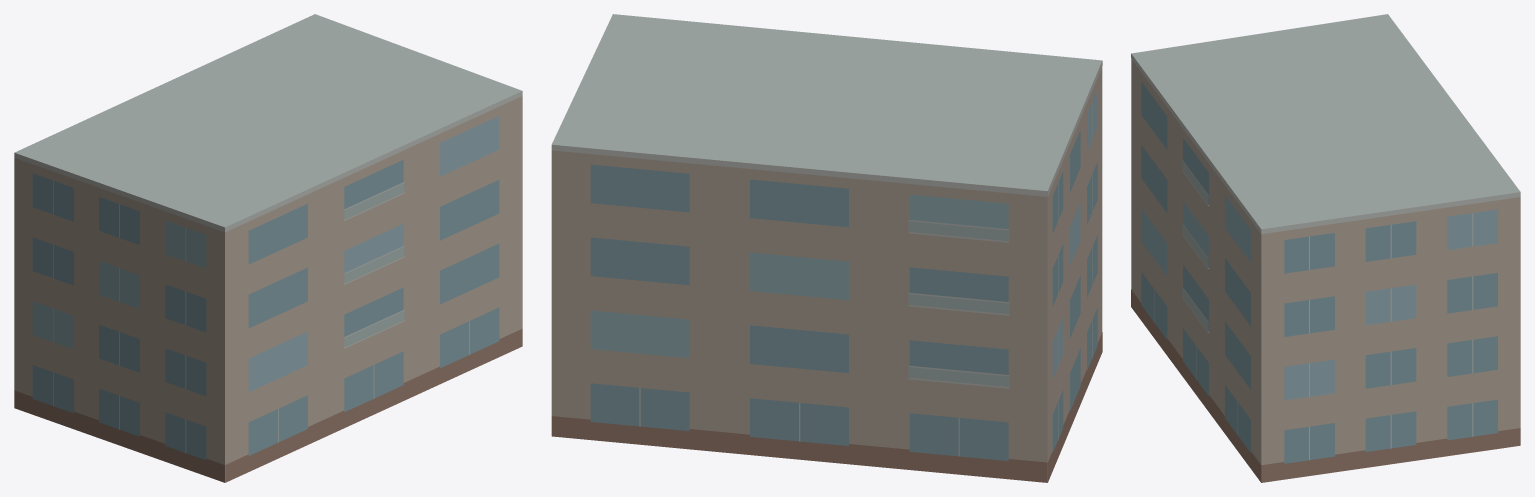
File: survey-upis-32763684.glb
3 renders of one model, left to right at view 1: azimuth 30°, elevation 25°; view 2: azimuth 150°, elevation 25°; view 3: azimuth 270°, elevation 25°, orthographic. The views are drawn at different scales.
Parts seen in each view (by area): view 1: survey-upis-32763684.tmp; view 2: survey-upis-32763684.tmp; view 3: survey-upis-32763684.tmp.
Part boxes in pixels (x1,y1,x2,y2): survey-upis-32763684.tmp: [14, 14, 522, 482]; survey-upis-32763684.tmp: [551, 14, 1102, 482]; survey-upis-32763684.tmp: [1131, 14, 1520, 482].
Size of the model in its own units: 22.96 by 12.6 by 17.55.
